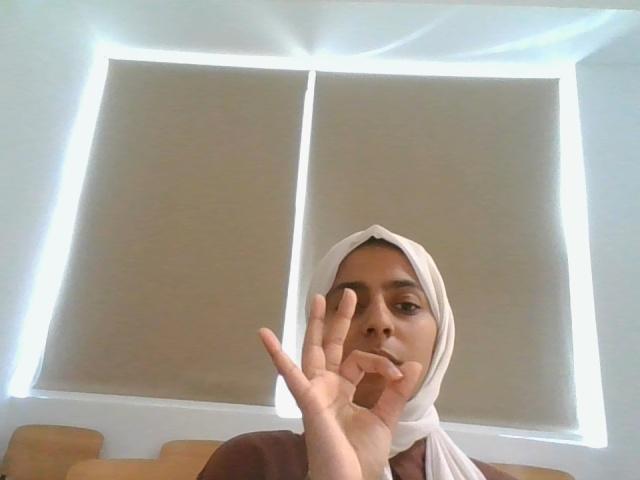okay: (240, 281, 423, 480)
